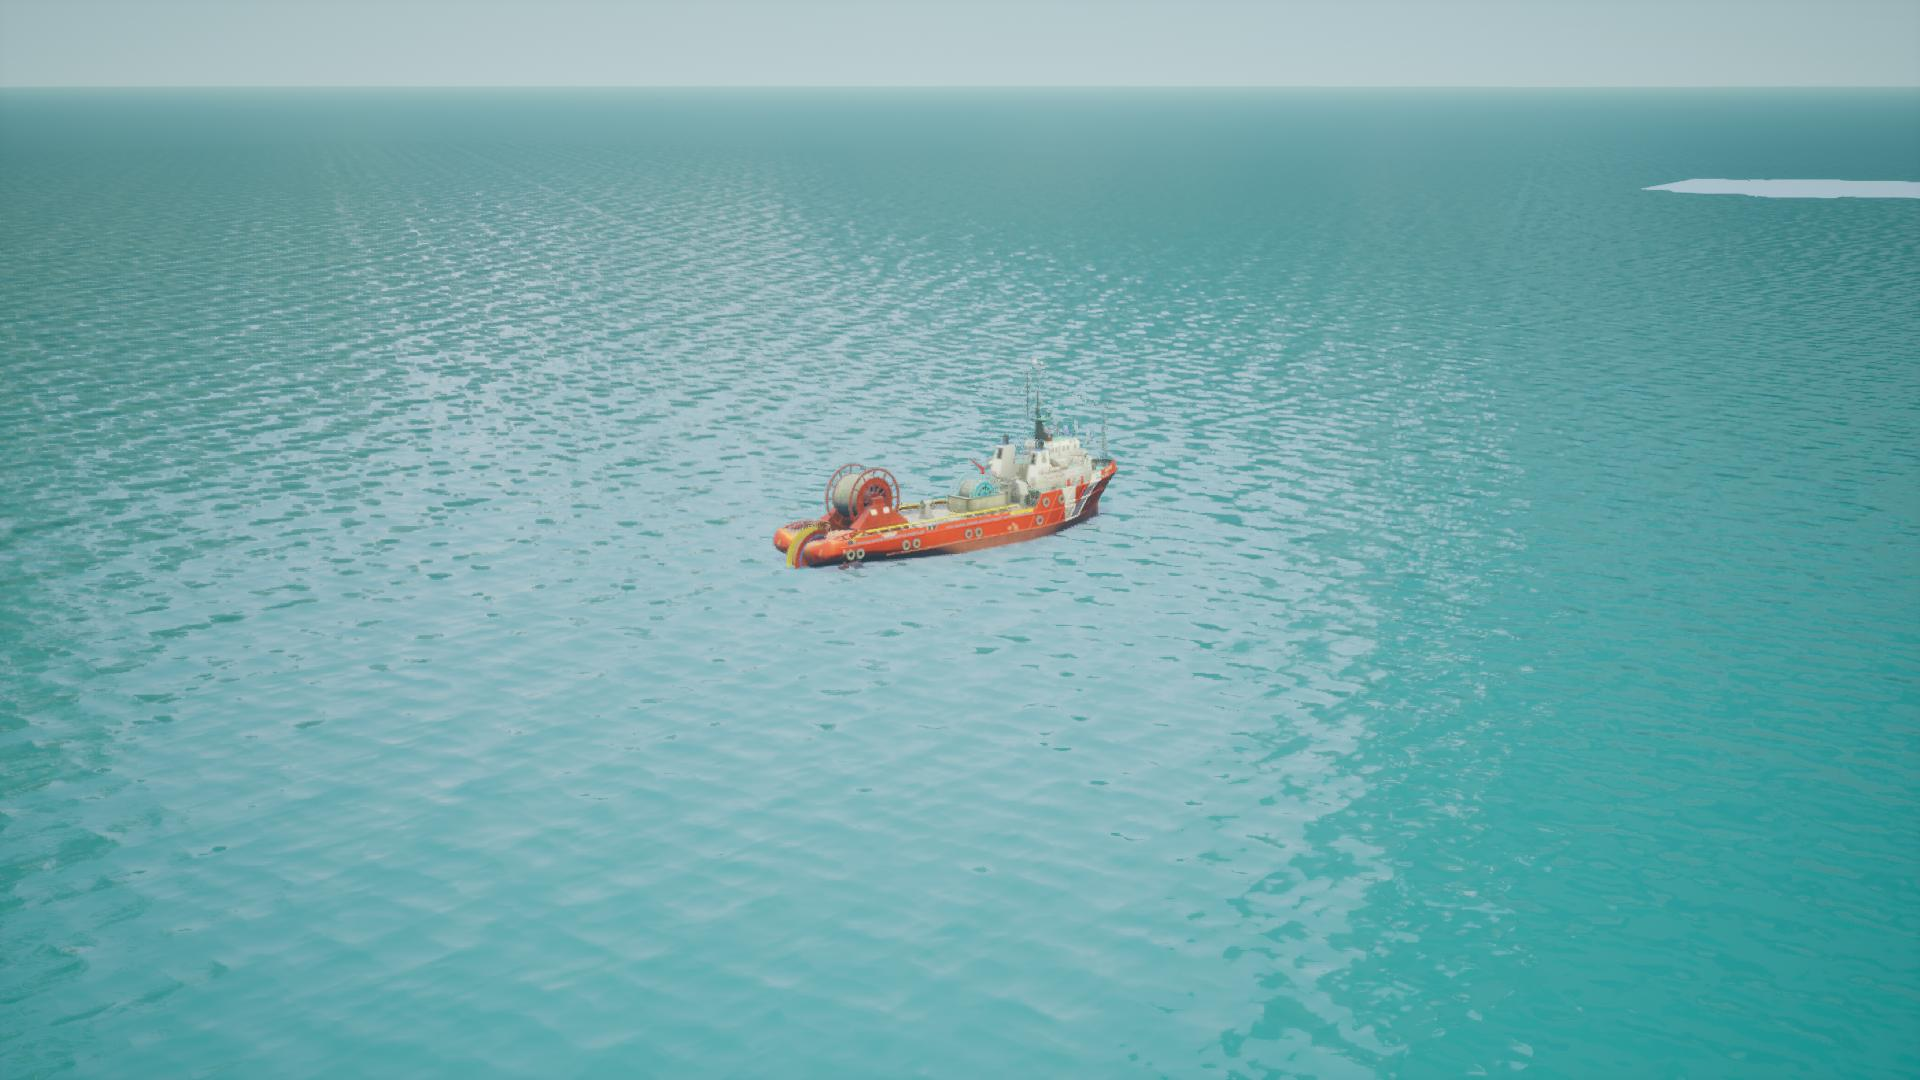Tug Boat: (777, 415, 1120, 570)
